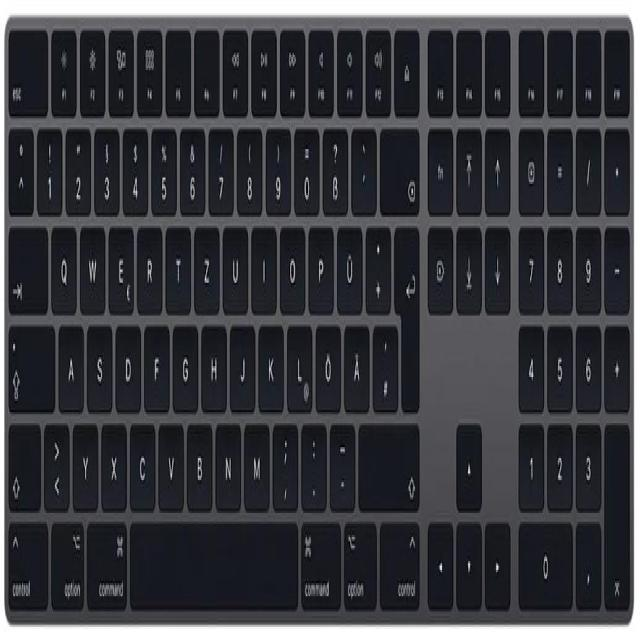0: (292, 121, 319, 213)
1: (35, 121, 62, 213)
2: (64, 123, 90, 213)
3: (93, 123, 119, 217)
4: (121, 121, 147, 213)
5: (150, 123, 177, 217)
6: (178, 123, 204, 213)
7: (207, 123, 233, 215)
8: (235, 123, 262, 213)
9: (264, 123, 290, 213)
a: (57, 318, 83, 410)
accent: (350, 121, 377, 217)
ae: (343, 318, 369, 410)
alt-left: (50, 515, 85, 614)
altgr-right: (343, 515, 378, 609)
b: (185, 417, 212, 511)
c: (128, 417, 154, 509)
caret: (7, 121, 33, 213)
comma: (271, 417, 297, 509)
d: (114, 320, 140, 410)
del: (378, 121, 419, 213)
e: (107, 219, 133, 311)
enter: (393, 219, 419, 410)
f: (143, 320, 169, 410)
g: (171, 320, 197, 410)
h: (200, 318, 226, 410)
hash: (371, 318, 398, 410)
i: (250, 220, 277, 314)
j: (229, 318, 255, 410)
k: (256, 318, 283, 410)
keyboard: (2, 6, 635, 627)
l: (286, 318, 312, 410)
less: (42, 417, 69, 509)
m: (243, 419, 270, 513)
minus: (328, 419, 355, 509)
n: (215, 417, 242, 511)
o: (278, 220, 305, 314)
oe: (314, 318, 340, 410)
p: (307, 219, 333, 311)
plus: (364, 219, 390, 311)
point: (300, 417, 326, 509)
q: (49, 219, 76, 311)
r: (136, 219, 162, 311)
s: (85, 320, 111, 410)
shift-left: (6, 417, 40, 511)
shift-lock: (7, 318, 56, 416)
shift-right: (357, 414, 421, 513)
space: (128, 515, 298, 614)
ss: (321, 123, 347, 213)
strg-left: (5, 515, 49, 616)
strg-right: (378, 515, 420, 609)
t: (165, 219, 191, 311)
tab: (7, 219, 47, 311)
u: (221, 219, 248, 311)
ue: (336, 219, 362, 311)
v: (157, 415, 183, 509)
w: (78, 219, 104, 311)
x: (99, 417, 126, 509)
y: (71, 417, 98, 511)
z: (193, 219, 219, 311)
